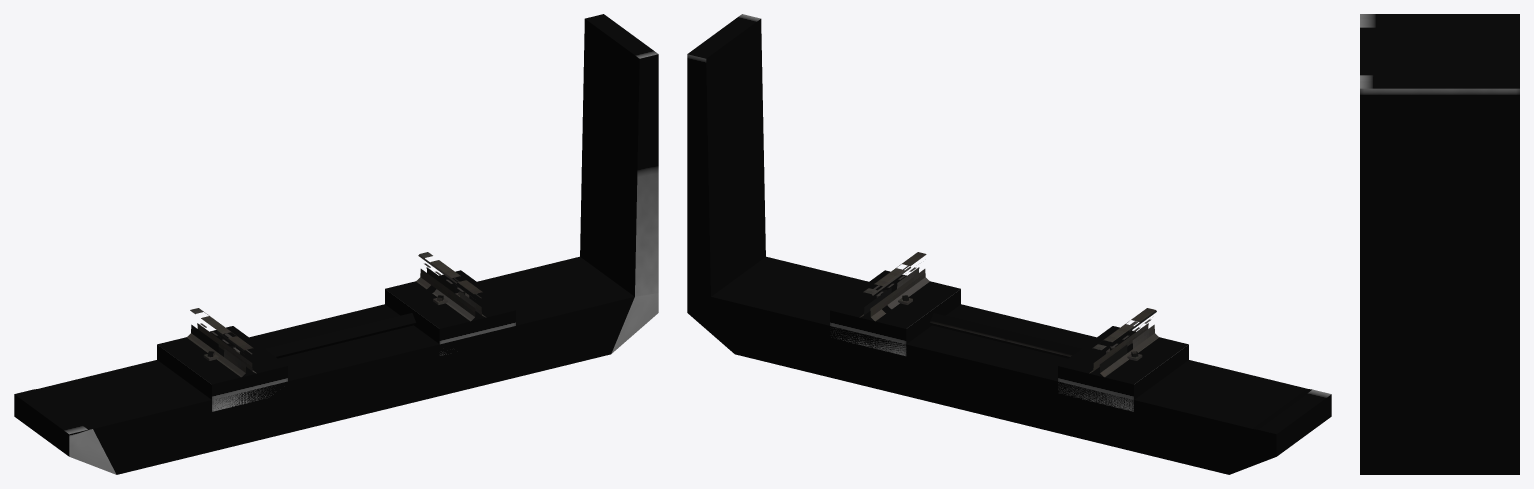
Rendered from concretebridge_r.obj.
3 renders of one model, left to right at view 1: azimuth 30°, elevation 25°; view 2: azimuth 150°, elevation 25°; view 3: azimuth 270°, elevation 25°, orthographic. The views are drawn at different scales.
Parts seen in each view (by area): view 1: cube, cuboid, rail; view 2: cube, cuboid, rail; view 3: cube.
Boxes of the visible parts, x1,y1,x2,y2 form: cube: [14, 14, 658, 474]; cuboid: [157, 270, 515, 411]; rail: [186, 252, 486, 377]; cube: [687, 14, 1331, 474]; cuboid: [830, 270, 1188, 411]; rail: [859, 252, 1159, 377]; cube: [1360, 14, 1519, 474].
Bounding box in the file's own units: 3.88 × 1.81 × 0.625.
2 materials, 2 textured.
